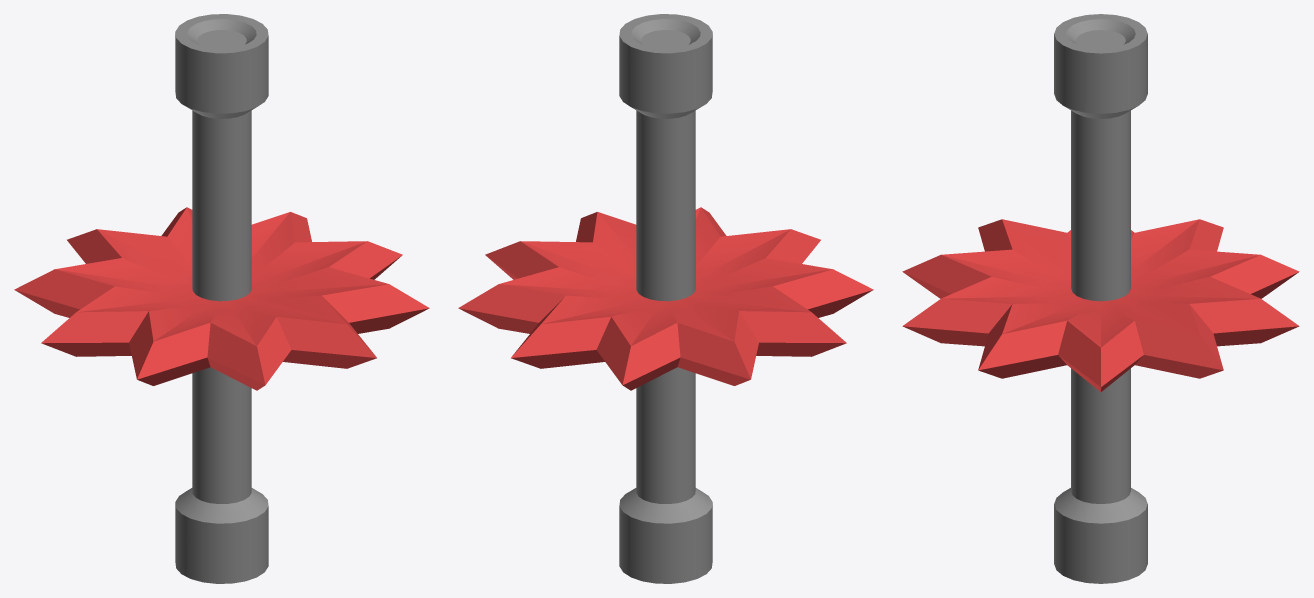
File: saw.fbx
3 renders of one model, left to right at view 1: azimuth 30°, elevation 25°; view 2: azimuth 150°, elevation 25°; view 3: azimuth 270°, elevation 25°, orthographic.
Visible parts, largest first — view 1: blade, pipe_1; view 2: blade, pipe_1; view 3: blade, pipe_1.
Boxes of the visible parts, x1=… form: blade: x1=14, y1=207, x2=429, y2=390; pipe_1: x1=175, y1=14, x2=268, y2=583; blade: x1=458, y1=207, x2=873, y2=390; pipe_1: x1=619, y1=14, x2=712, y2=583; blade: x1=902, y1=219, x2=1299, y2=391; pipe_1: x1=1054, y1=14, x2=1147, y2=583.
Size of the model in its own units: 2.91 by 4.07 by 2.76.
